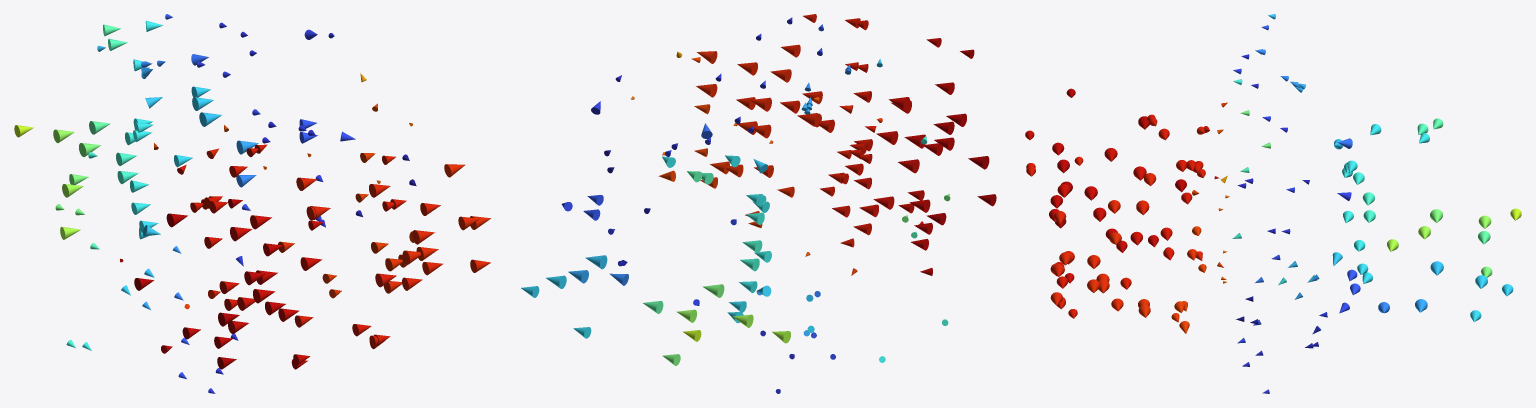
File: LineasCorrienteH2-O2_mh2-1.38_V-0.8.glb
3 renders of one model, left to right at view 1: azimuth 30°, elevation 25°; view 2: azimuth 150°, elevation 25°; view 3: azimuth 270°, elevation 25°, orthographic. The views are drawn at different scales.
Size of the model in its own units: 0.000916 by 0.000957 by 0.00123.
Materials: 2 (2 with a texture image).
